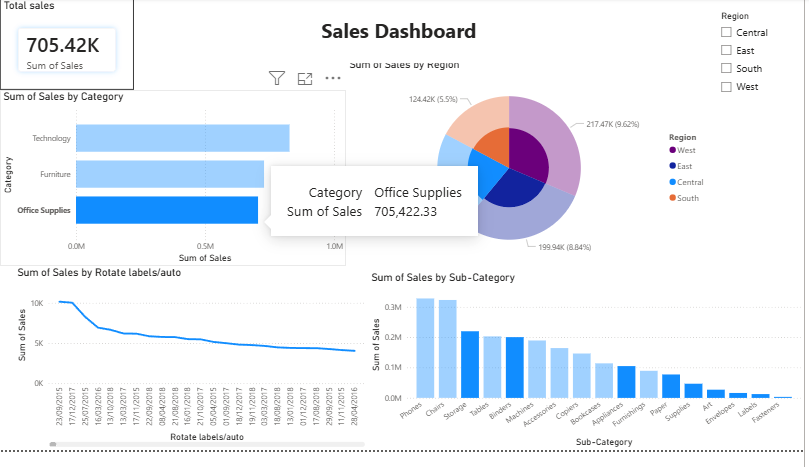

The dashboard page shown, as its layout file describes it:
{"tool":"powerbi","page":{"name":"Page 1","canvas":[1280,720],"ordinal":0},"visuals":[{"type":"cardVisual","title":"Total sales","fields":{"Data":["Sum(train.Sales)"]},"box":[0,0,213.3,146.5],"z":0},{"type":"clusteredBarChart","fields":{"Category":["train.Category"],"Y":["Sum(train.Sales)"]},"box":[0,146.5,550.8,280.2],"z":1000},{"type":"pieChart","fields":{"Category":["train.Region"],"Y":["Sum(train.Sales)"]},"box":[550.8,95.5,584.3,331.1],"z":2000},{"type":"lineChart","fields":{"Category":["train.Order Date"],"Y":["Sum(train.Sales)"]},"box":[22.3,426.7,563.6,292.9],"z":3000},{"type":"clusteredColumnChart","fields":{"Category":["train.Sub-Category"],"Y":["Sum(train.Sales)"]},"box":[585.9,434.6,694.1,285],"z":3001},{"type":"slicer","fields":{"Values":["train.Region"]},"box":[1135.1,15.9,144.9,175.1],"z":3002},{"type":"textbox","box":[506.3,23.9,409.2,79.6],"z":3003}]}

Visuals, with their boxes in screenshot pixels (x1, y1, x2, y2), scaled from the page's 1280x720 canvas onto the 809x467 screenshot:
"Total sales" cardVisual: 0,0,135,95
clusteredBarChart - train.Category x Sum(train.Sales): 0,95,348,277
pieChart - train.Region x Sum(train.Sales): 348,62,717,277
lineChart - train.Order Date x Sum(train.Sales): 14,277,370,466
clusteredColumnChart - train.Sub-Category x Sum(train.Sales): 370,282,808,466
slicer - train.Region: 717,10,808,124
textbox: 320,16,579,67
